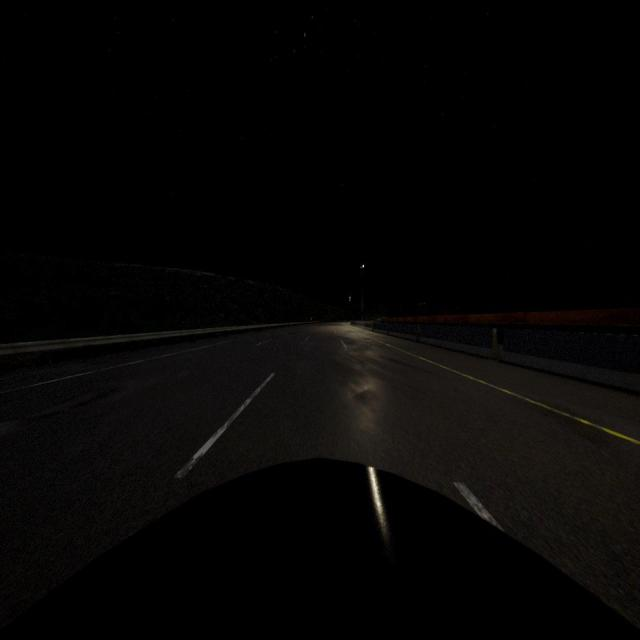Vehicle: (0, 464, 640, 640)
